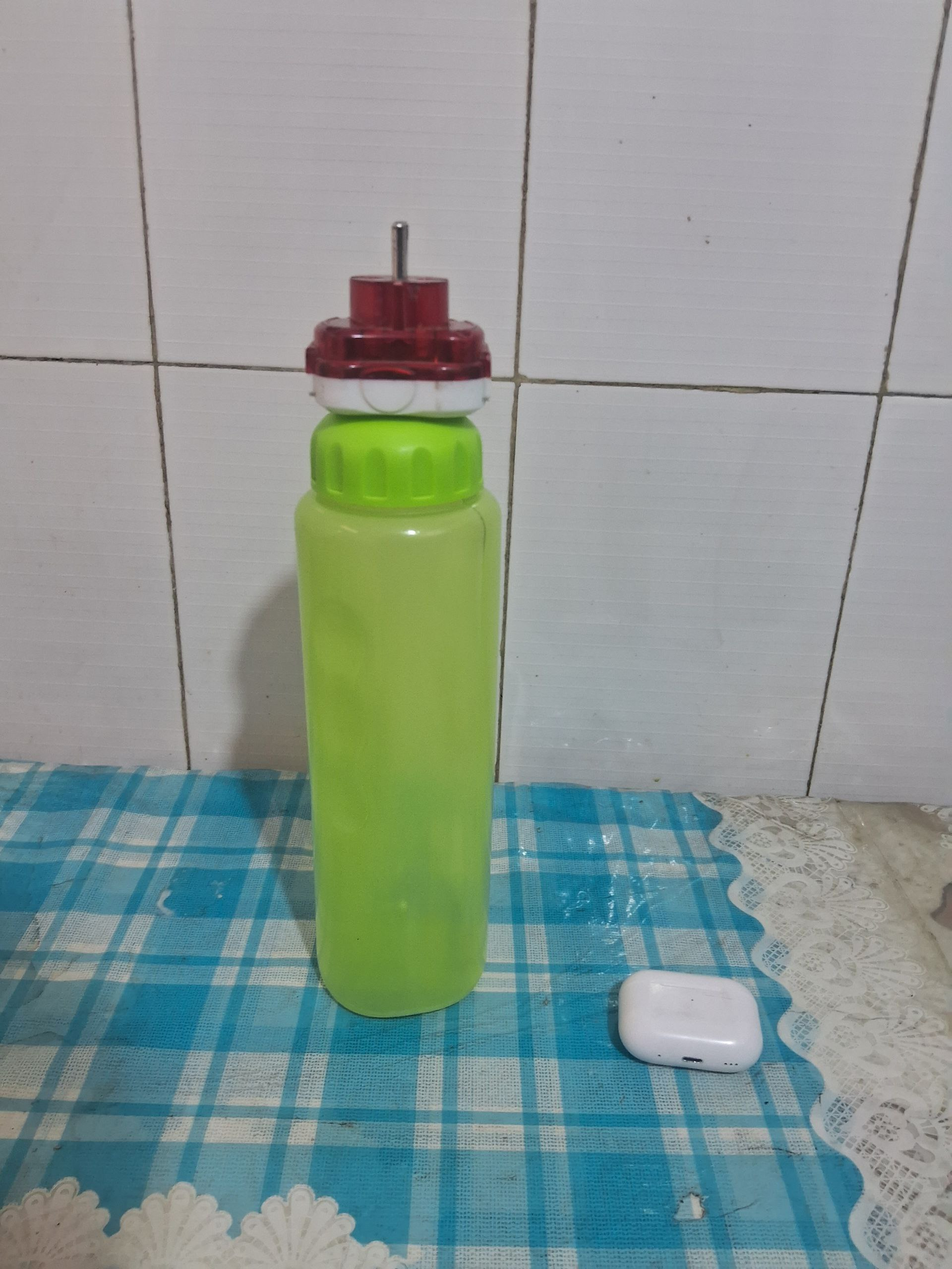Air_pod: (614, 961, 768, 1075)
Multi_adapter: (298, 213, 496, 418)
Water_bottle: (290, 415, 505, 1022)
